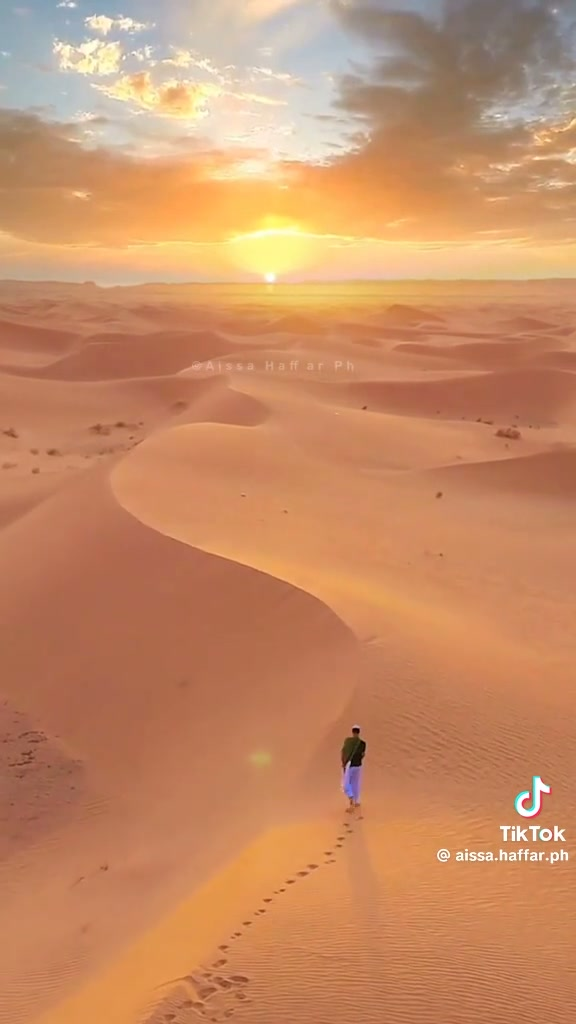human: (341, 725, 365, 810)
human_foot_print: (143, 863, 319, 1023)
